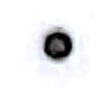cancer: (25, 12, 94, 82)
